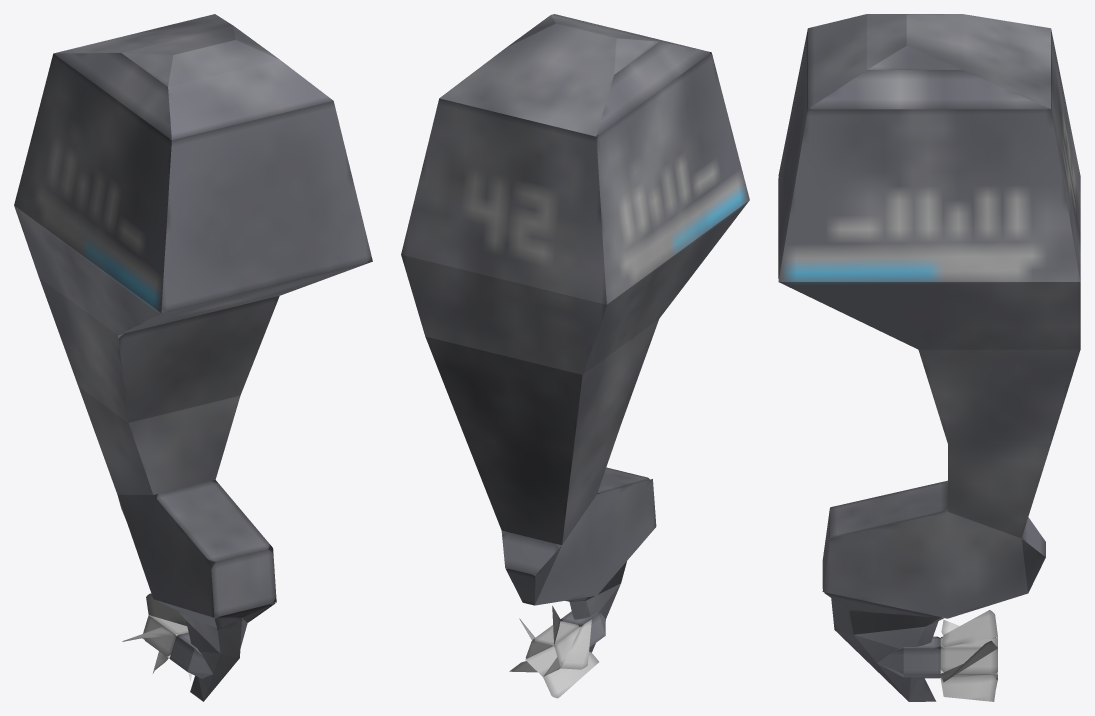
Rendered from Motor.obj.
3 renders of one model, left to right at view 1: azimuth 30°, elevation 25°; view 2: azimuth 150°, elevation 25°; view 3: azimuth 270°, elevation 25°, orthographic. The views are drawn at different scales.
Visible parts, largest first — view 1: Body, cylinder; view 2: Body, cylinder; view 3: Body, cylinder.
Boxes of the visible parts, x1,y1,x2,y2 form: Body: (14,14,372,701); cylinder: (122,593,191,681); Body: (401,14,749,652); cylinder: (509,606,598,698); Body: (778,14,1080,701); cylinder: (940,610,997,701).
Bounding box in the file's own units: 0.5312 × 1.58 × 0.6406.
